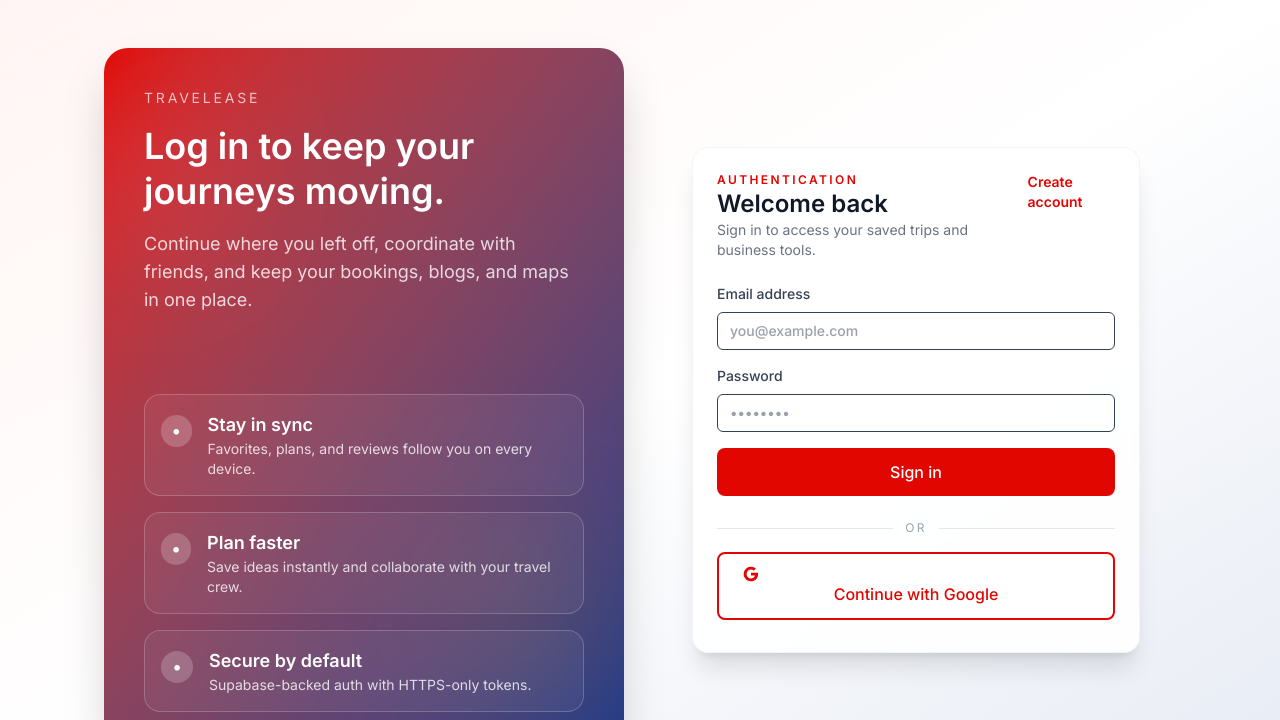
Scenario: Login page › shows validation error when fields are missing
Click the button "Sign in" at (916, 472), box [717,448,1115,496]
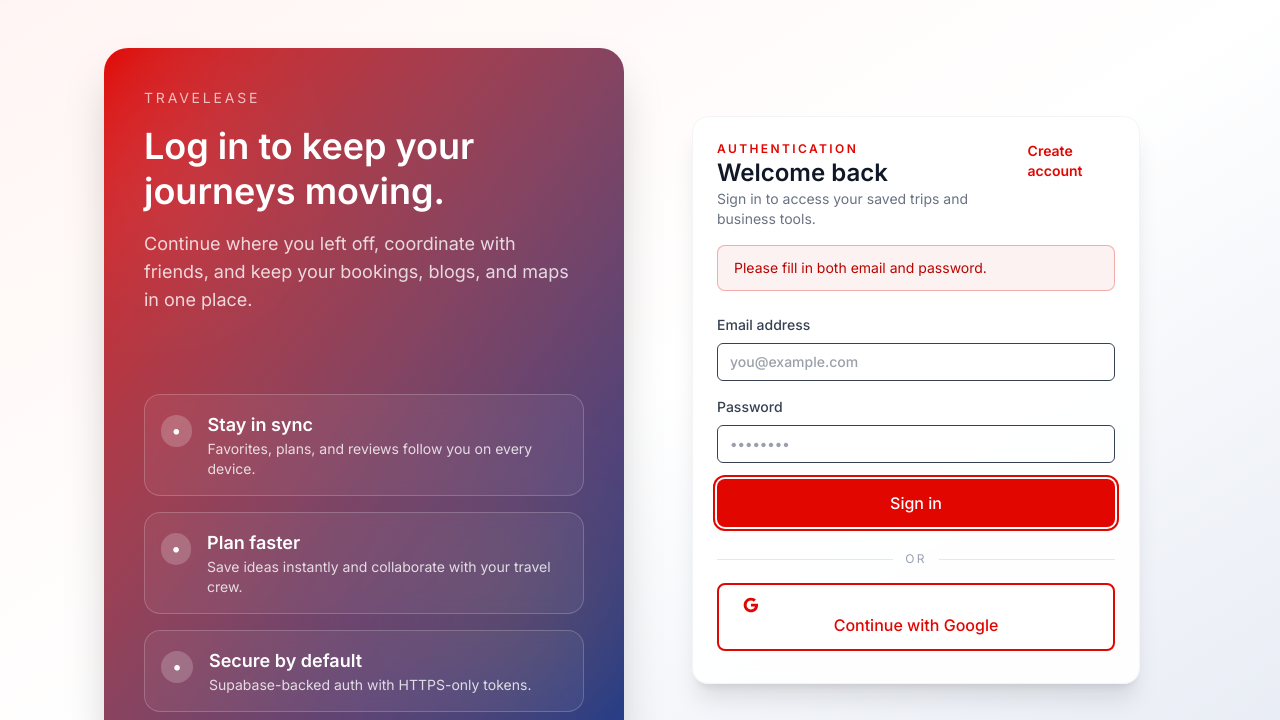
Result: the text "Please fill in both email and password." is shown at [717,245,1115,291]
